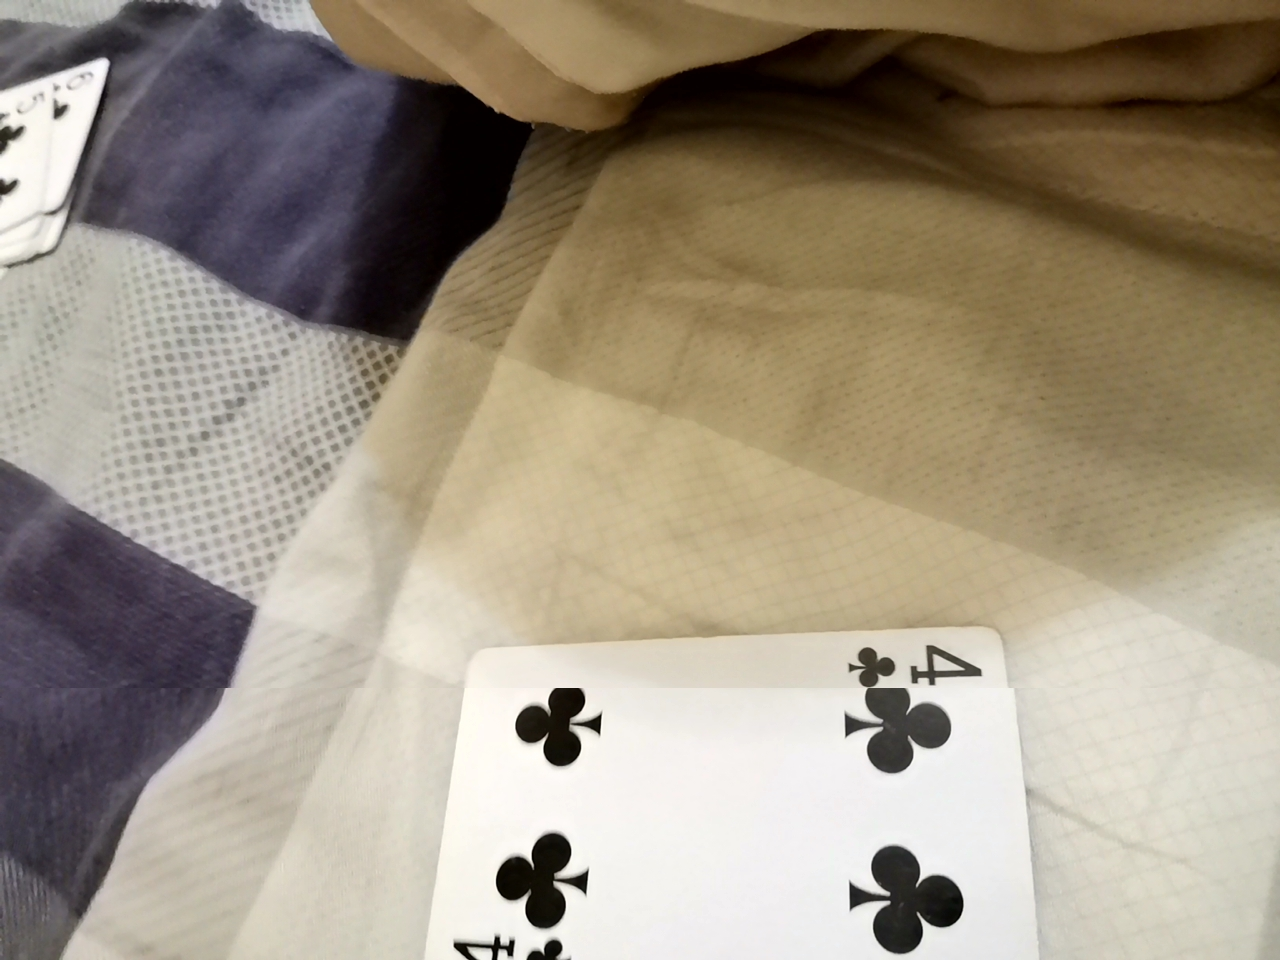mh 4: (424, 628, 1043, 959)
